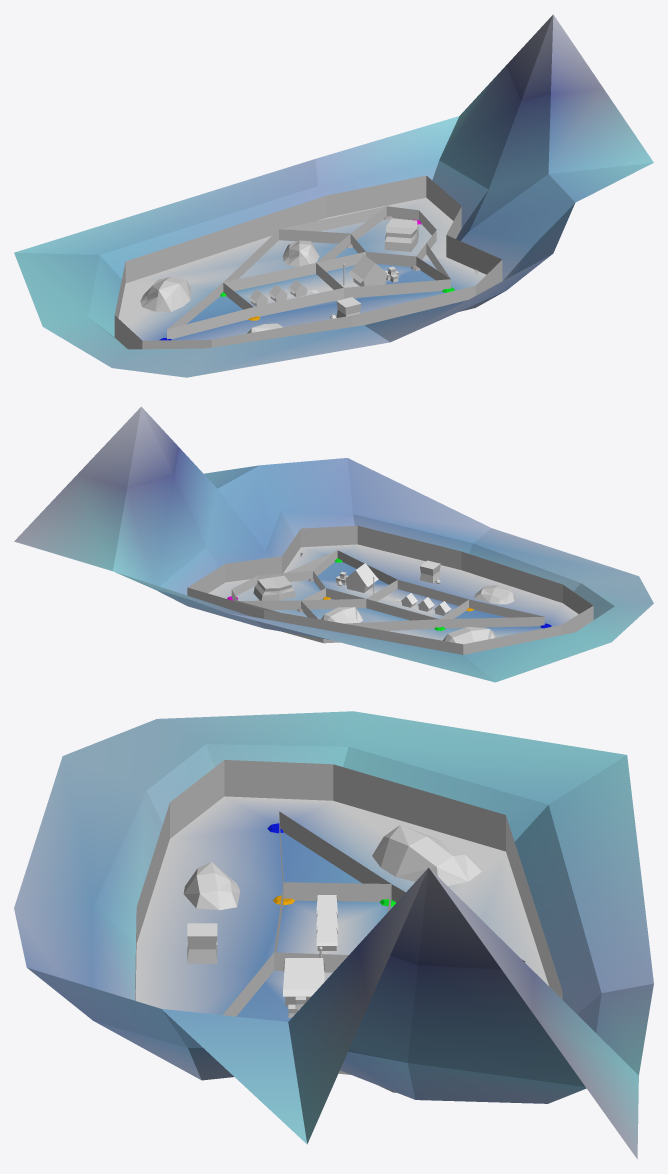
The model's file is Leo.fbx.
The picture shows the model from 3 angles, top to bottom: view 1: azimuth 30°, elevation 25°; view 2: azimuth 150°, elevation 25°; view 3: azimuth 270°, elevation 25°; orthographic projection. The views are drawn at different scales.
Parts seen in each view (by area): view 1: GeometryWalls, GeometryGround, Boundary, Pathfinding, Decor Rock003.001, Decor Rock002, Decor House, Decor Rock003; view 2: GeometryWalls, Boundary, GeometryGround, Pathfinding, Decor Rock002, Decor Rock003.001, Decor House, Decor Rock003.002, Decor Rock003; view 3: GeometryWalls, GeometryGround, Boundary, Pathfinding, Decor Rock003.001, Decor Rock003.002, Decor House, Decor Gift.004.
Boxes of the visible parts, box(x1,y1,x2,y2) form: GeometryWalls: box(14, 14, 653, 377); GeometryGround: box(118, 197, 486, 340); Boundary: box(114, 175, 502, 349); Pathfinding: box(167, 206, 450, 339); Decor Rock003.001: box(140, 277, 190, 311); Decor Rock002: box(384, 218, 418, 251); Decor House: box(348, 255, 390, 286); Decor Rock003: box(282, 240, 319, 266); GeometryWalls: box(14, 406, 653, 682); Boundary: box(187, 525, 593, 654); GeometryGround: box(208, 544, 578, 640); Pathfinding: box(231, 550, 544, 643); Decor Rock002: box(253, 575, 295, 600); Decor Rock003.001: box(443, 626, 496, 644); Decor House: box(344, 563, 378, 592); Decor Rock003.002: box(474, 585, 515, 604); Decor Rock003: box(321, 607, 362, 623); GeometryWalls: box(14, 711, 653, 1159); GeometryGround: box(135, 796, 548, 1021); Boundary: box(135, 760, 562, 1000); Pathfinding: box(222, 811, 525, 1092); Decor Rock003.001: box(372, 825, 481, 885); Decor Rock003.002: box(183, 862, 240, 910); Decor House: box(283, 958, 325, 1006); Decor Gift.004: box(187, 923, 217, 963).
Size of the model in its own units: 23440 by 7175 by 12697.
